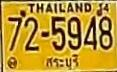2: (24, 16, 38, 50)
4: (83, 16, 96, 50)
5: (51, 16, 65, 50)
7: (7, 16, 22, 50)
8: (98, 16, 112, 49)
9: (67, 16, 81, 49)
SRI: (45, 54, 81, 70)
